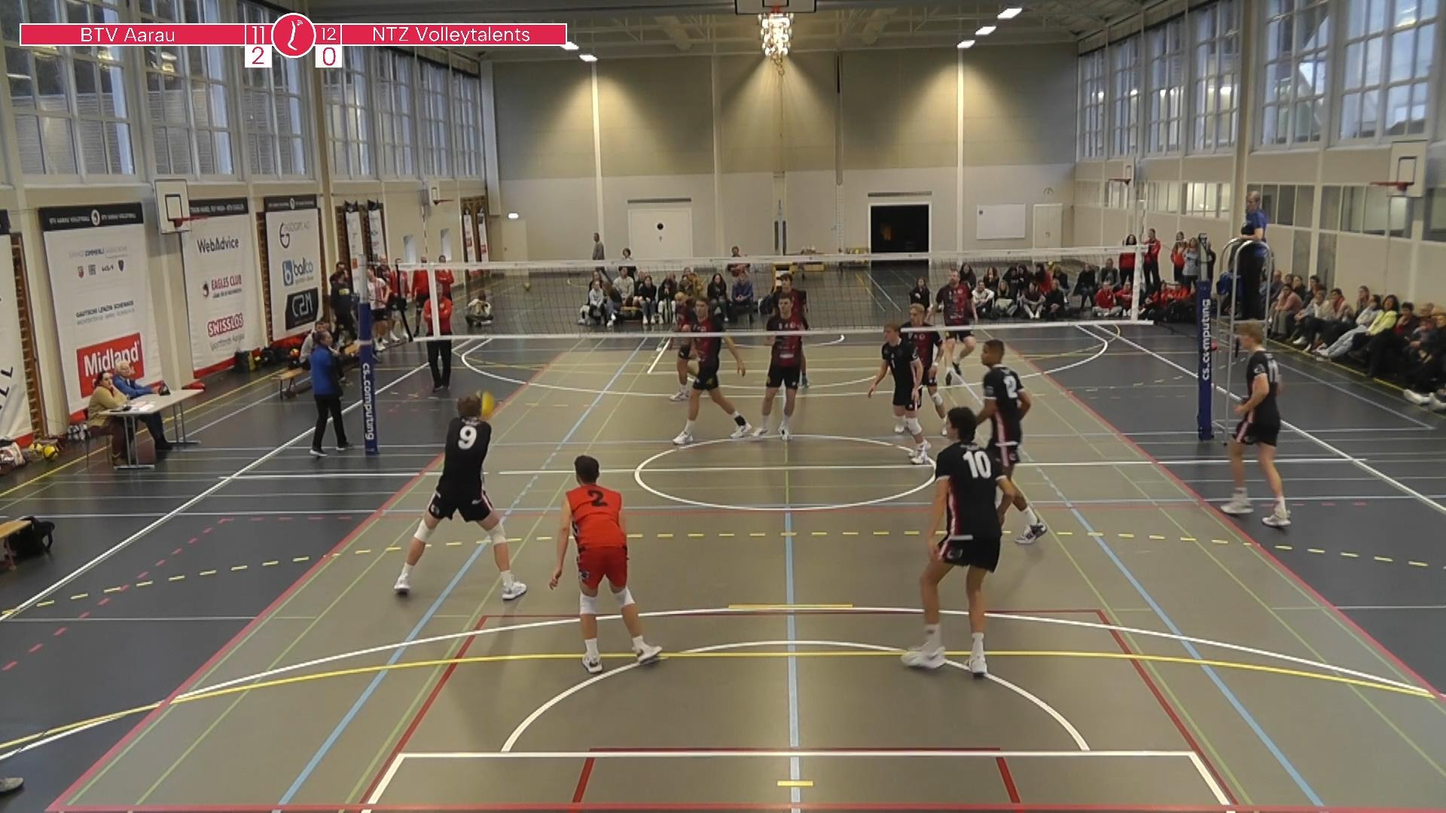ricezione: (393, 392, 528, 602)
